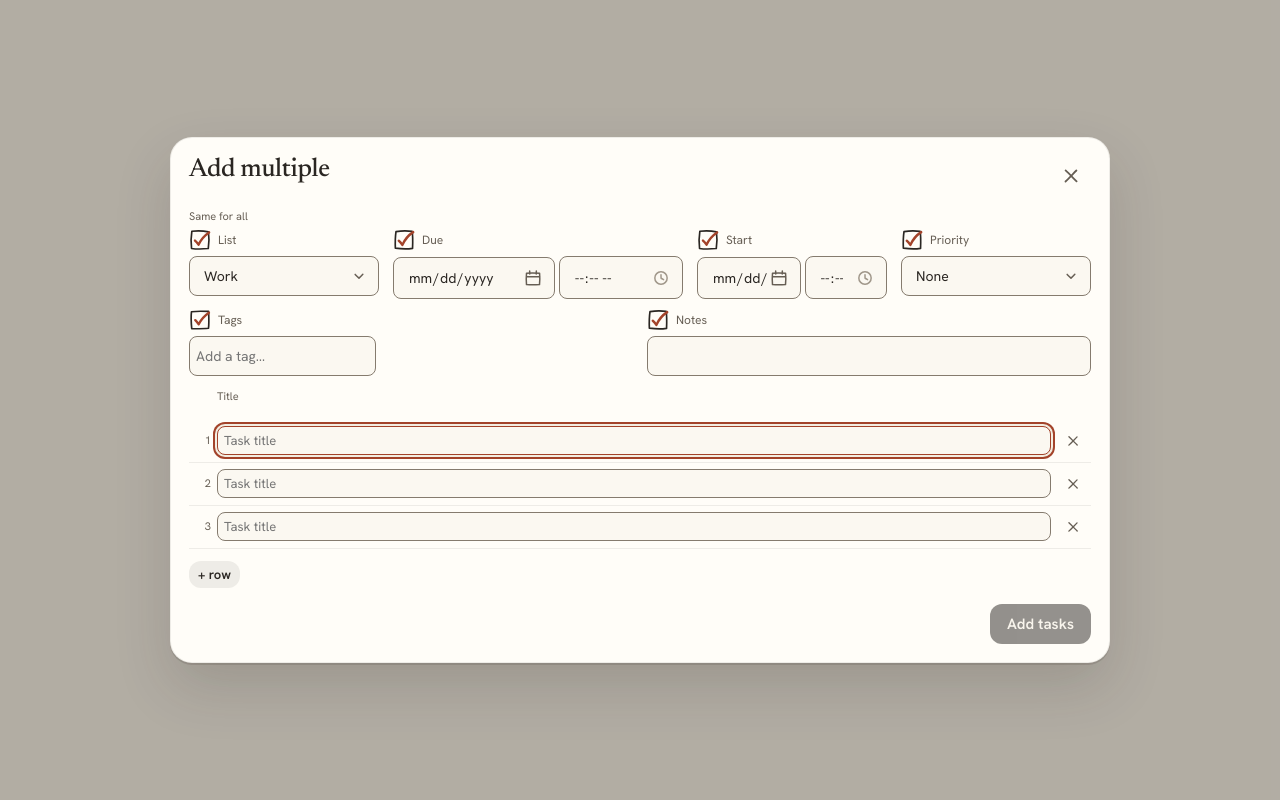
Test case: AddMultipleModal › keeps the due time disabled until a date exists
Expected: the time field named "Due time, for all tasks" is disabled, [559,256,683,299]
Step 1. Type "2026-08-10" into the date field named "Due date, for all tasks" → (474, 278), box [393,257,555,299]
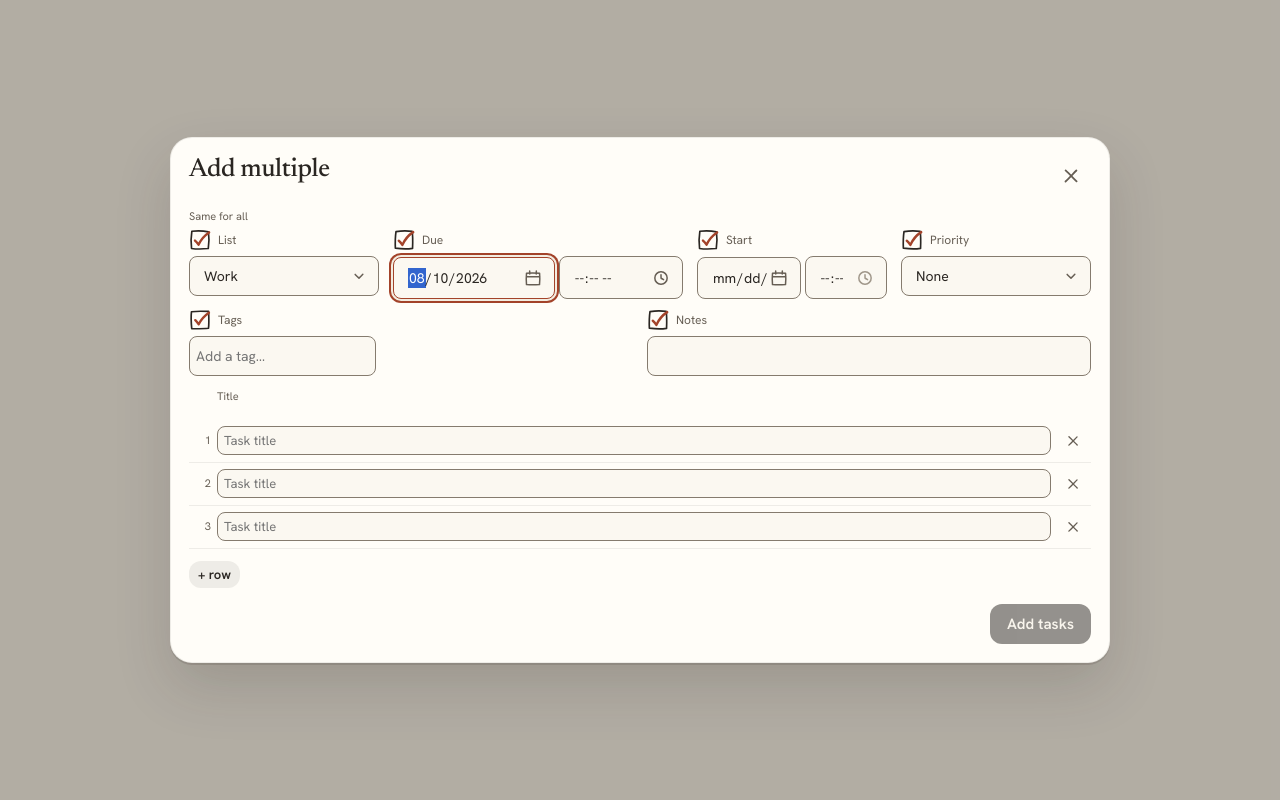
Now the time field named "Due time, for all tasks" is enabled, box [559,256,683,299]
